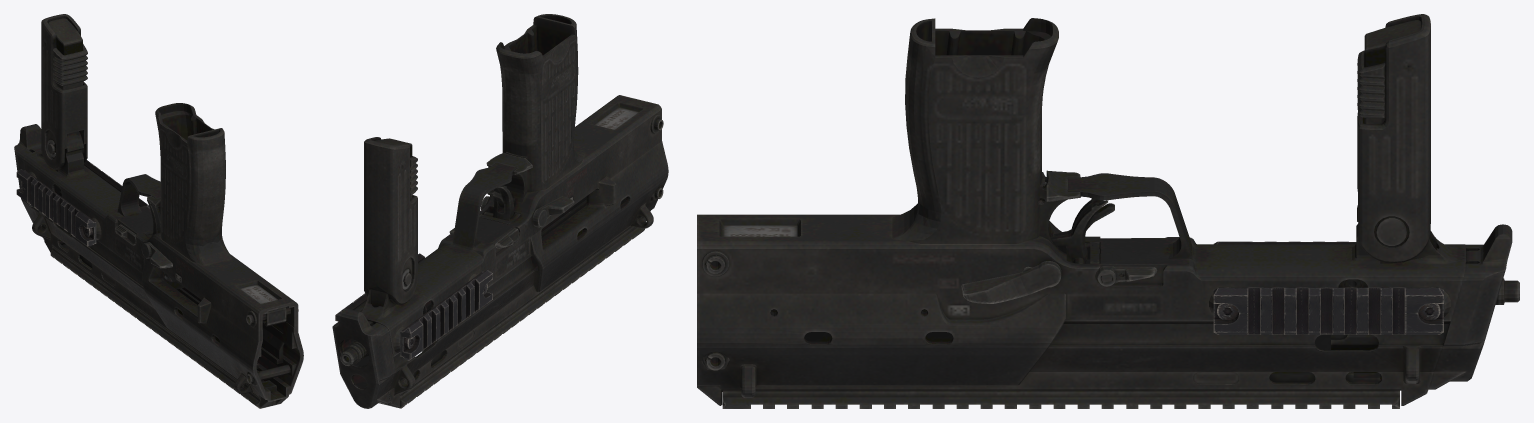
3 views of the same model, side by side, from view 1: azimuth 30°, elevation 25°; view 2: azimuth 150°, elevation 25°; view 3: azimuth 270°, elevation 25° (orthographic). The views are drawn at different scales.
Parts seen in each view (by area): view 1: TW_5ba26383d4351e00334c93d9_PZ_Import; view 2: TW_5ba26383d4351e00334c93d9_PZ_Import; view 3: TW_5ba26383d4351e00334c93d9_PZ_Import.
Part boxes in pixels (x1,y1,x2,y2): TW_5ba26383d4351e00334c93d9_PZ_Import: (14, 14, 303, 408); TW_5ba26383d4351e00334c93d9_PZ_Import: (332, 14, 668, 408); TW_5ba26383d4351e00334c93d9_PZ_Import: (697, 14, 1519, 408).
Size of the model in its own units: 0.0293 by 0.1971 by 0.0999.
1 material, 1 textured.
